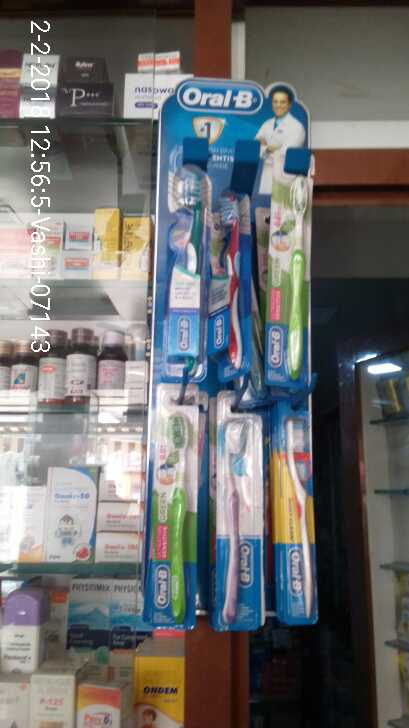oralb: (214, 407, 263, 630), (151, 403, 196, 628), (281, 406, 324, 628), (274, 174, 318, 378), (209, 190, 256, 370), (163, 163, 204, 361)
